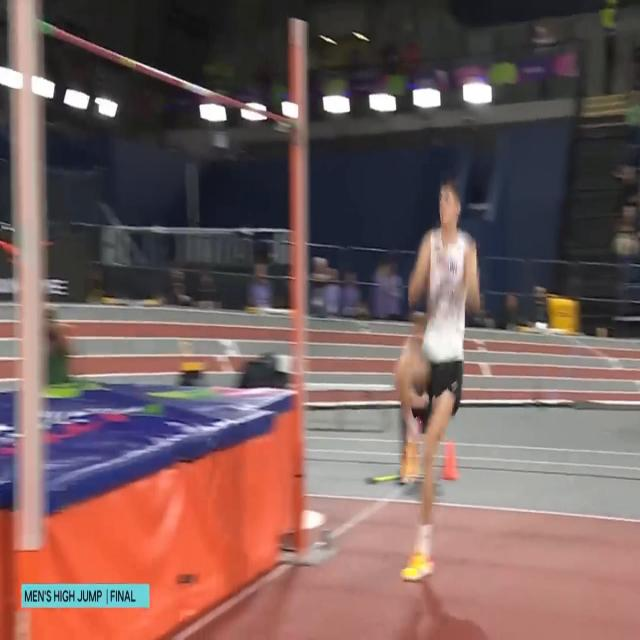jump: (395, 183, 481, 582)
